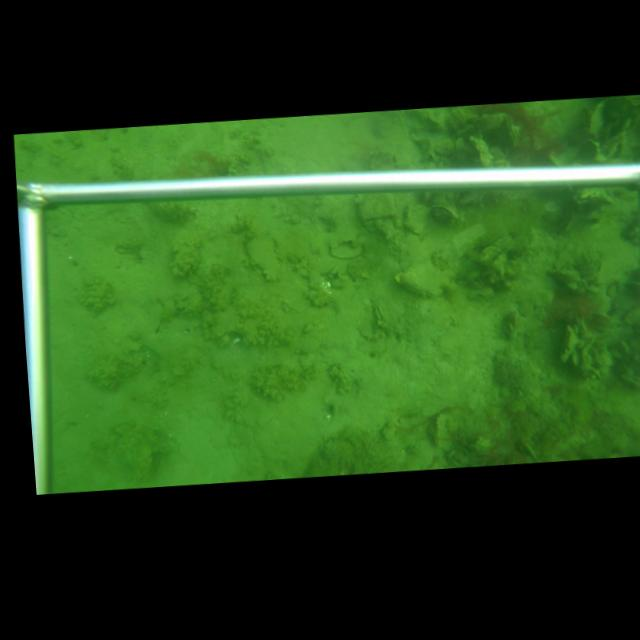Oyster-Closed: (393, 259, 457, 297), (544, 268, 593, 292), (372, 301, 386, 330)
Oyster-Indeterminate: (243, 232, 281, 282), (403, 206, 428, 233)
Oyster-Open: (503, 114, 519, 146), (432, 206, 459, 223)
